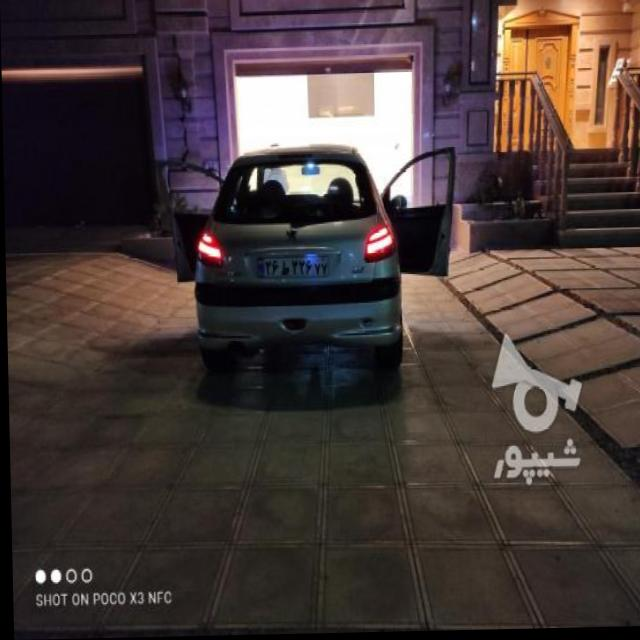licence: (249, 256, 327, 279)
